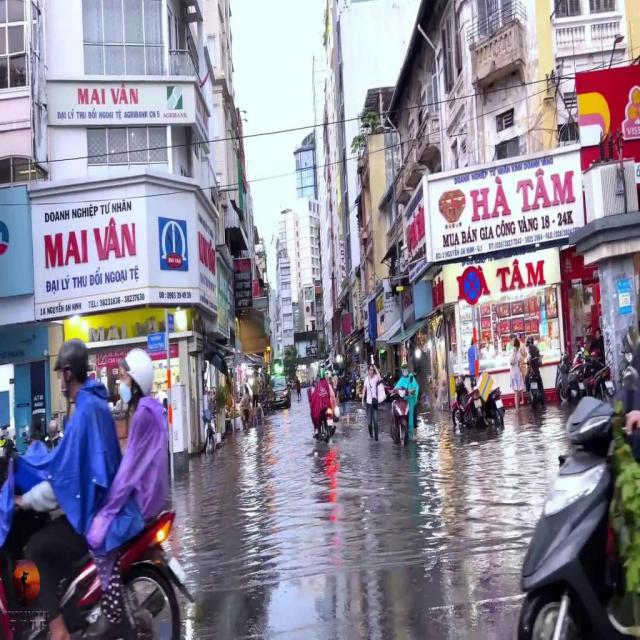cam_dung_xe_va_do_xe: (461, 266, 483, 304)
